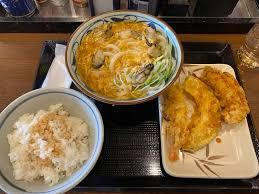pumpkin: (184, 77, 222, 153)
